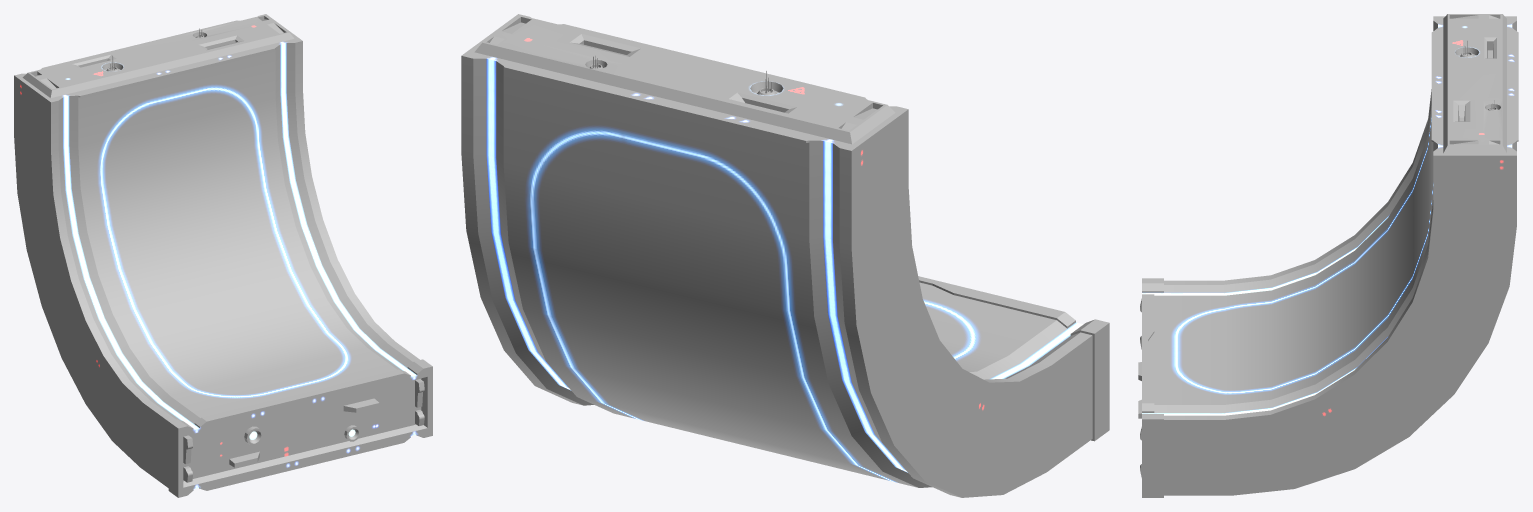
File: PitchUp-2S_Caps.fbx
The picture shows the model from 3 angles, left to right: view 1: azimuth 30°, elevation 25°; view 2: azimuth 150°, elevation 25°; view 3: azimuth 270°, elevation 25°; orthographic projection. The views are drawn at different scales.
Visible parts, largest first — view 1: PitchUp-2S_Caps; view 2: PitchUp-2S_Caps; view 3: PitchUp-2S_Caps.
Part boxes in pixels (bbox=[...]): PitchUp-2S_Caps: bbox=[14, 14, 432, 497]; PitchUp-2S_Caps: bbox=[461, 14, 1109, 497]; PitchUp-2S_Caps: bbox=[1138, 14, 1518, 497].
Bounding box in the file's own units: 2.5 × 2.99 × 2.85.
